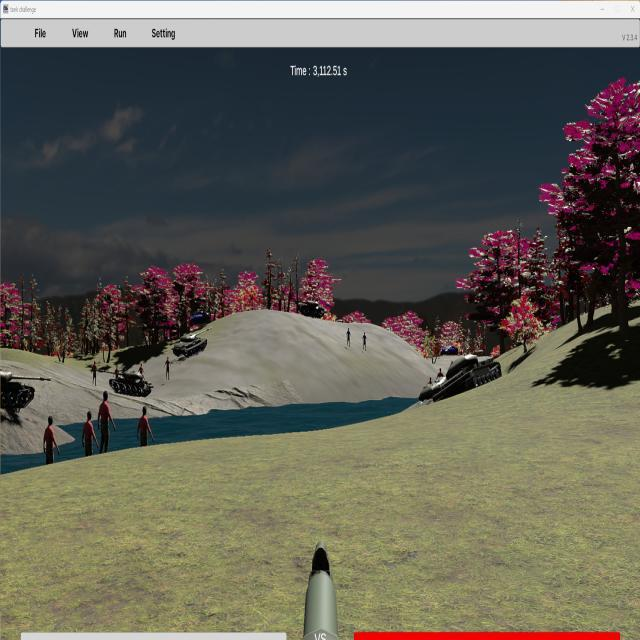Human: (98, 390, 116, 470)
Tank: (433, 351, 503, 404), (0, 367, 50, 414), (97, 368, 153, 397), (173, 326, 212, 359)
